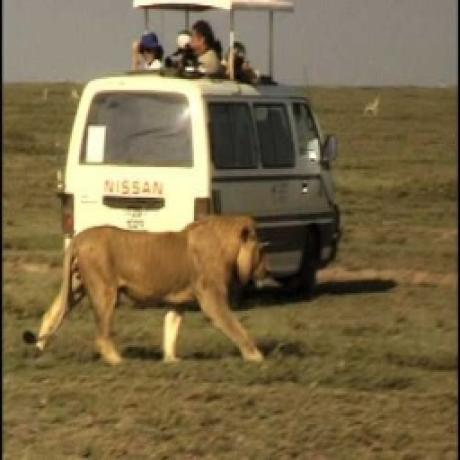Lion: (22, 212, 270, 362)
